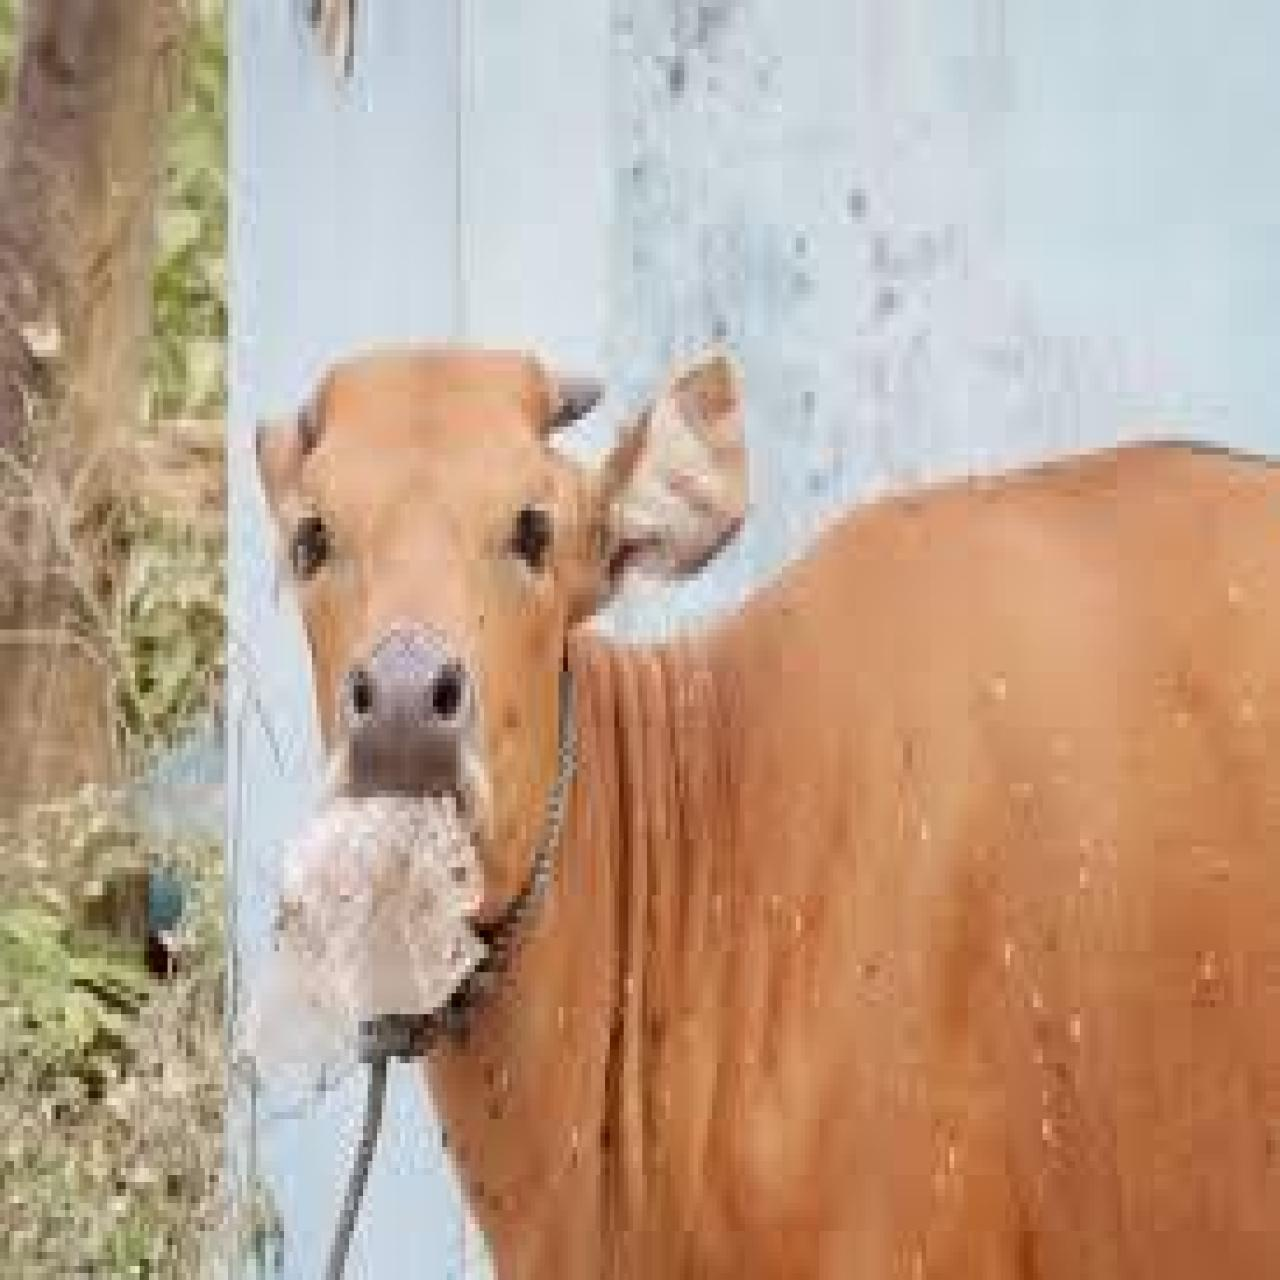cow: (246, 335, 1280, 1280)
